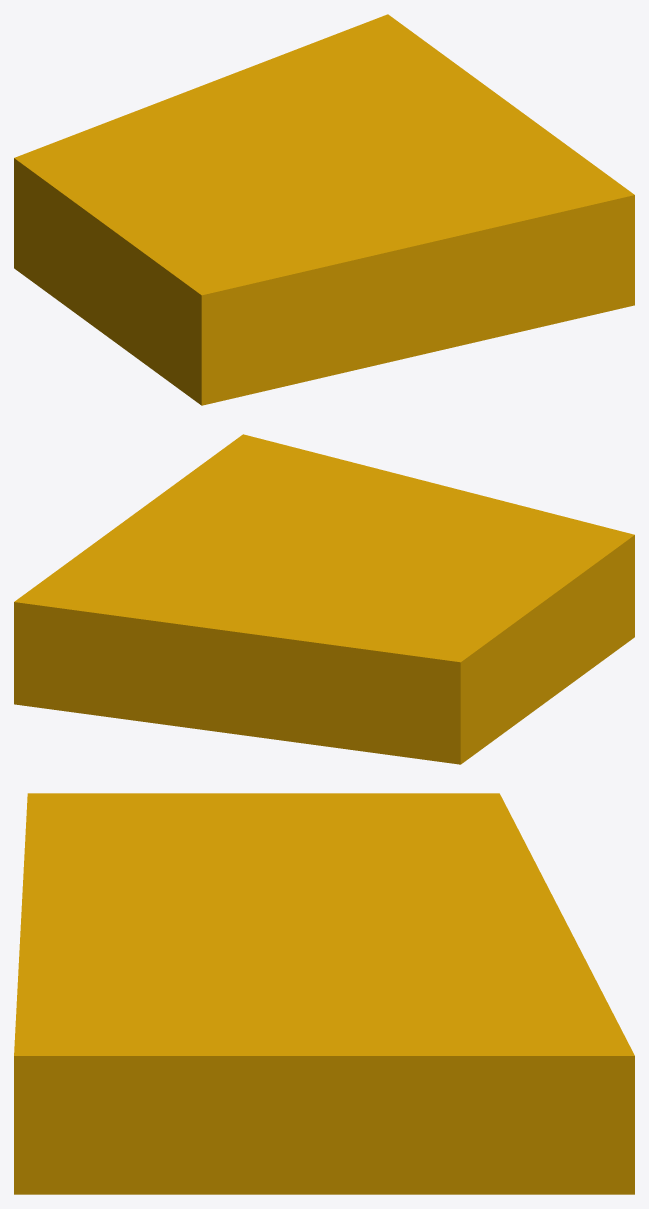
File: Trapezoid.fbx
3 renders of one model, top to bottom at view 1: azimuth 30°, elevation 25°; view 2: azimuth 150°, elevation 25°; view 3: azimuth 270°, elevation 25°, orthographic. The views are drawn at different scales.
Parts seen in each view (by area): view 1: Cube.016; view 2: Cube.016; view 3: Cube.016.
Boxes of the visible parts, box(x1,y1,x2,y2) form: Cube.016: box(14, 14, 634, 405); Cube.016: box(14, 434, 634, 764); Cube.016: box(14, 793, 634, 1194).
Size of the model in its own units: 208 by 51.3 by 208.
